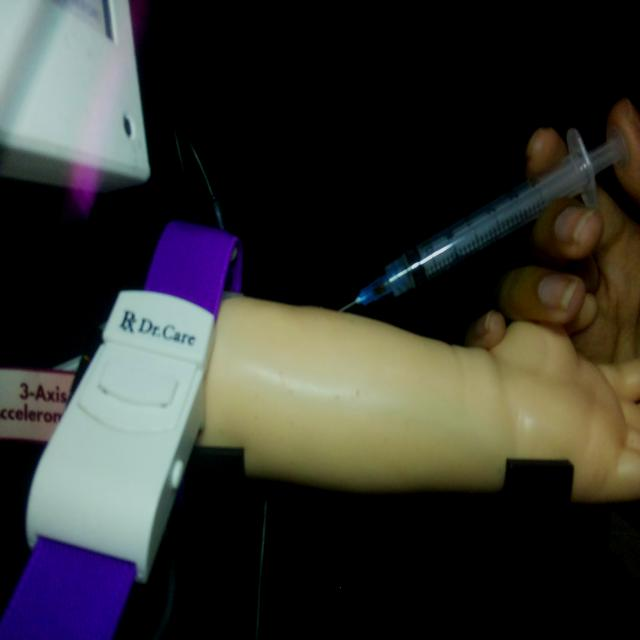22 degrees: (337, 120, 629, 315)
